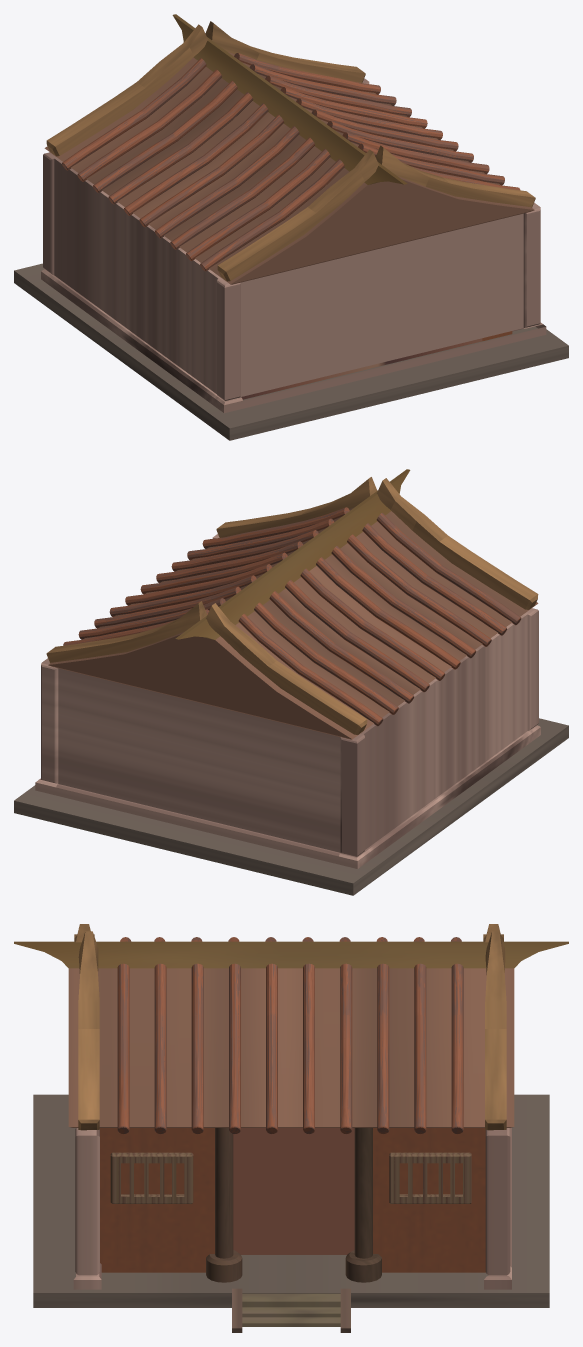
The model's file is 红砖房.fbx.
3 renders of one model, top to bottom at view 1: azimuth 30°, elevation 25°; view 2: azimuth 150°, elevation 25°; view 3: azimuth 270°, elevation 25°, orthographic. The views are drawn at different scales.
Visible parts, largest first — view 1: pCube7, pCube8, pCube1, pCube9, pCube13, pCube12, pCube11, pCube10, pCylinder16, pCylinder17, pCylinder11, pCylinder15 (+16 smaller); view 2: pCube7, pCube8, pCube1, pCube9, pCube13, pCube12, pCube10, pCube11, pCylinder20, pCylinder16, pCylinder11, pCylinder15 (+15 smaller); view 3: pCube8, pCube1, pCube2, pCube3, pCube4, pCube9, pCube7, pCube11, pCube10, pCylinder22, pCylinder21, louti (+12 smaller).
Boxes of the visible parts, bbox=[...] form: pCube7: bbox=[41, 78, 546, 413]; pCube8: bbox=[44, 52, 534, 284]; pCube1: bbox=[14, 263, 568, 440]; pCube9: bbox=[172, 14, 407, 184]; pCube13: bbox=[217, 149, 378, 281]; pCube12: bbox=[46, 24, 207, 156]; pCube11: bbox=[375, 145, 535, 207]; pCube10: bbox=[205, 21, 365, 82]; pCylinder16: bbox=[124, 103, 268, 215]; pCylinder17: bbox=[108, 92, 253, 204]; pCylinder11: bbox=[200, 159, 344, 271]; pCylinder15: bbox=[139, 114, 283, 227]; pCube7: bbox=[35, 534, 540, 868]; pCube8: bbox=[48, 507, 538, 739]; pCube1: bbox=[14, 718, 568, 895]; pCube9: bbox=[175, 469, 410, 639]; pCube13: bbox=[376, 478, 538, 609]; pCube12: bbox=[206, 603, 367, 734]; pCube10: bbox=[46, 601, 207, 663]; pCube11: bbox=[216, 477, 377, 537]; pCylinder20: bbox=[238, 614, 383, 726]; pCylinder16: bbox=[300, 568, 445, 680]; pCylinder11: bbox=[376, 513, 521, 625]; pCylinder15: bbox=[316, 557, 460, 669]; pCube8: bbox=[68, 968, 514, 1127]; pCube1: bbox=[33, 1094, 549, 1307]; pCube2: bbox=[233, 1128, 354, 1254]; pCube3: bbox=[99, 1128, 214, 1272]; pCube4: bbox=[373, 1128, 485, 1272]; pCube9: bbox=[14, 941, 568, 968]; pCube7: bbox=[73, 1127, 511, 1289]; pCube11: bbox=[78, 931, 99, 1130]; pCube10: bbox=[485, 931, 506, 1130]; pCylinder22: bbox=[345, 1128, 381, 1282]; pCylinder21: bbox=[206, 1128, 242, 1282]; louti: bbox=[242, 1293, 340, 1326].
Size of the model in its own units: 582 by 344 by 613.
